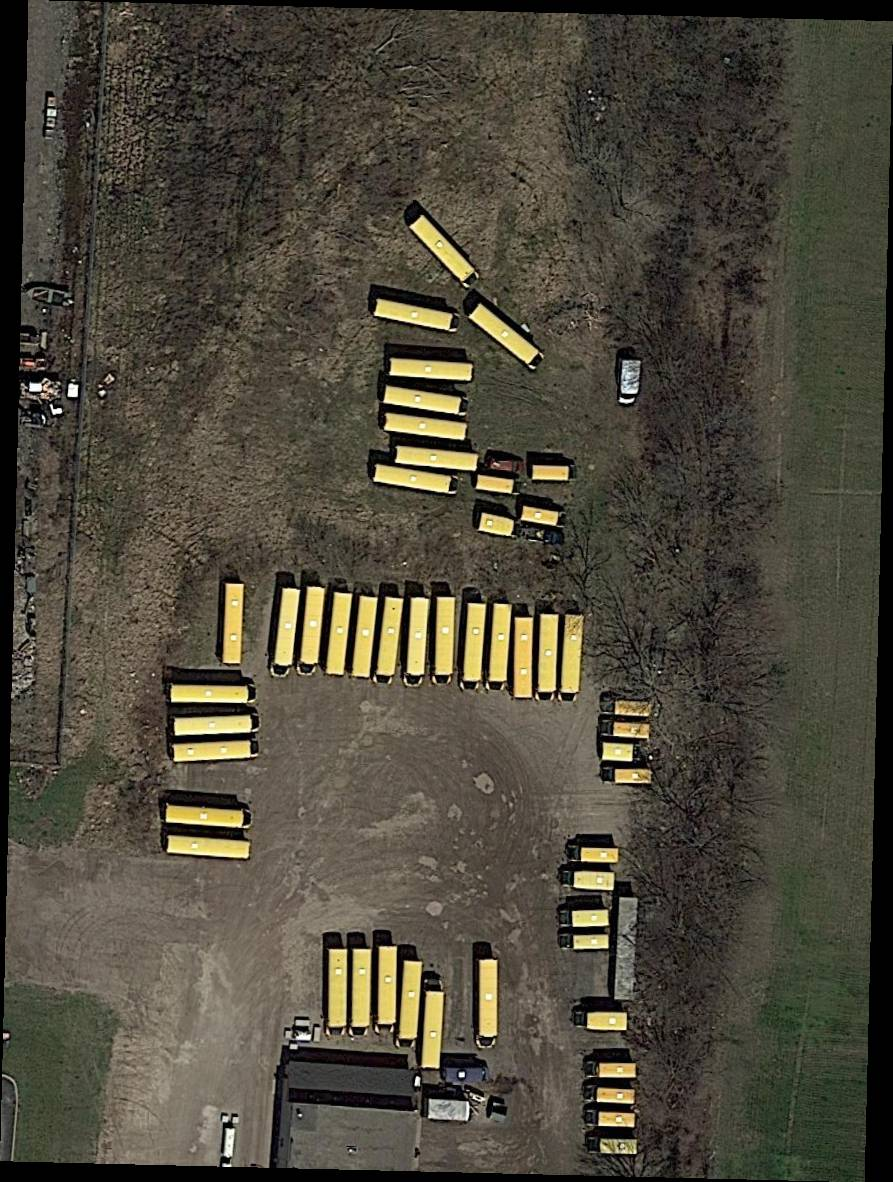large vehicle: (410, 213, 482, 289), (468, 303, 547, 372), (373, 296, 459, 334), (381, 385, 471, 418), (372, 464, 459, 496), (272, 585, 301, 676), (375, 597, 404, 685), (382, 412, 469, 441), (323, 590, 352, 676), (397, 961, 425, 1050), (404, 596, 432, 685), (297, 586, 325, 674), (388, 357, 477, 384), (396, 445, 480, 472), (460, 601, 485, 690), (165, 805, 254, 830), (487, 604, 512, 692), (172, 739, 259, 764), (353, 596, 379, 679), (560, 617, 584, 703), (422, 981, 445, 1069), (167, 836, 251, 860), (174, 714, 261, 736), (478, 959, 499, 1048), (350, 948, 371, 1035), (537, 615, 558, 699), (169, 684, 257, 704), (223, 583, 244, 665), (376, 946, 395, 1036), (435, 598, 455, 683), (328, 950, 347, 1035), (514, 618, 534, 698), (599, 693, 659, 717), (600, 765, 658, 788), (575, 1011, 628, 1034), (475, 475, 524, 497), (522, 506, 568, 529), (619, 359, 641, 407), (600, 719, 652, 739), (586, 1061, 635, 1081), (582, 1086, 638, 1103), (561, 872, 616, 889), (563, 932, 609, 952), (602, 742, 649, 761), (561, 911, 609, 929), (587, 1111, 639, 1127), (589, 1139, 637, 1156), (568, 848, 619, 864), (531, 465, 577, 480)
